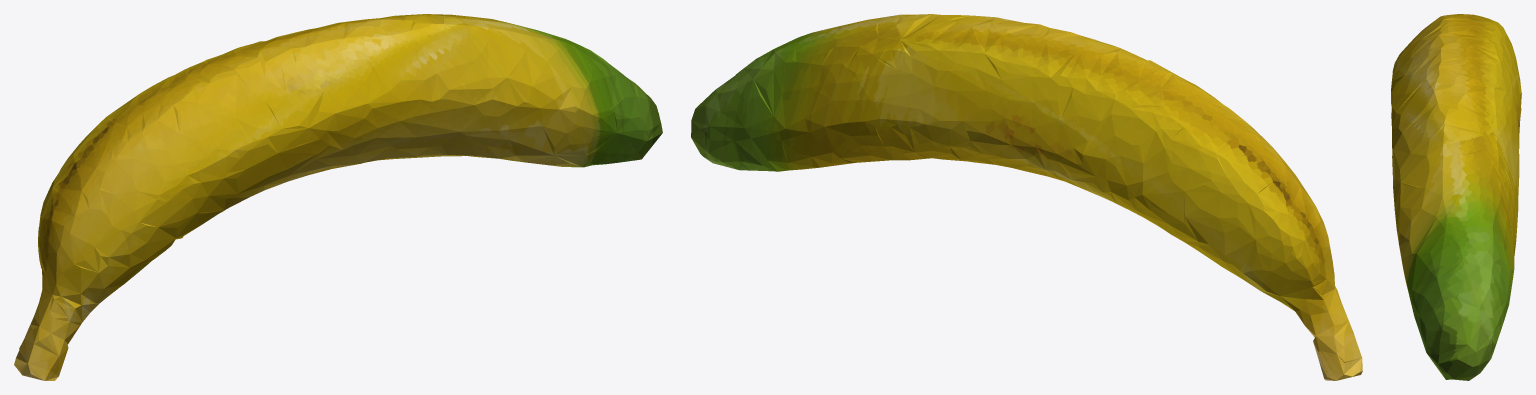
Rendered from ycb_banana_metric_fp.obj.
3 renders of one model, left to right at view 1: azimuth 30°, elevation 25°; view 2: azimuth 150°, elevation 25°; view 3: azimuth 270°, elevation 25°, orthographic. The views are drawn at different scales.
Size of the model in its own units: 0.1959 by 0.0792 by 0.0378.
1 material, 1 textured.
